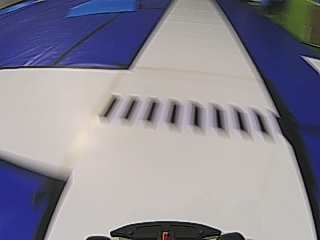CrossWalk: (100, 97, 271, 136)
